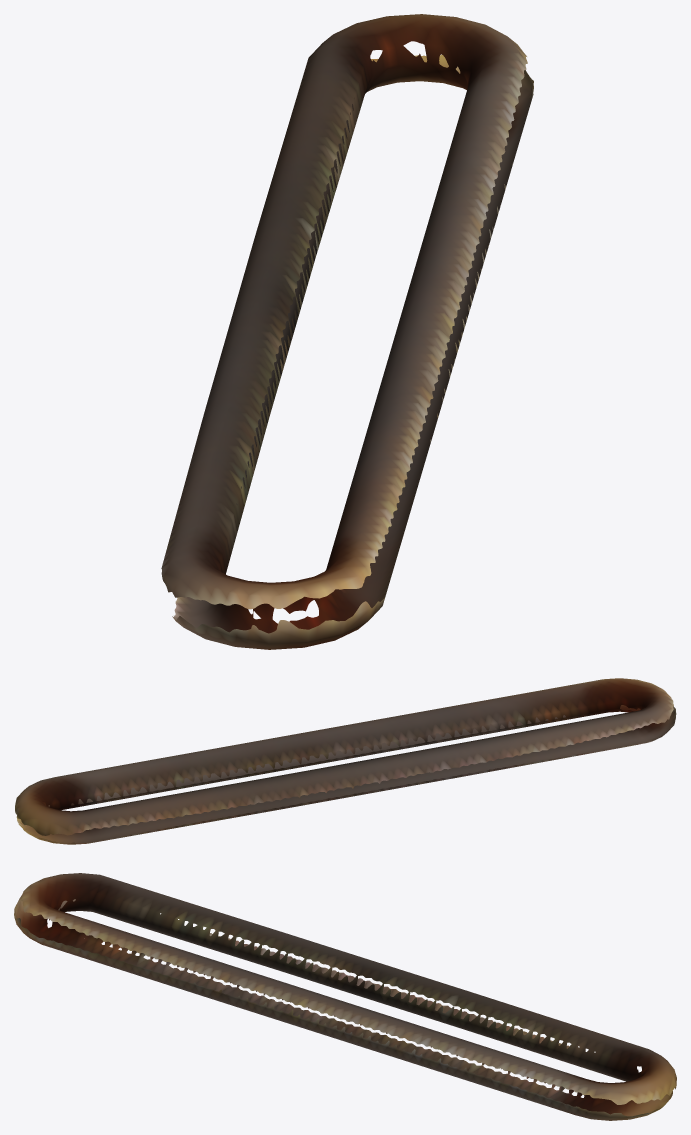
The model's file is lrubber2.fbx.
The picture shows the model from 3 angles, top to bottom: view 1: azimuth 30°, elevation 25°; view 2: azimuth 150°, elevation 25°; view 3: azimuth 270°, elevation 25°; orthographic projection. The views are drawn at different scales.
Visible parts, largest first — view 1: lrubber2; view 2: lrubber2; view 3: lrubber2.
Part boxes in pixels (bbox=[...]): lrubber2: bbox=[161, 14, 533, 649]; lrubber2: bbox=[15, 678, 676, 844]; lrubber2: bbox=[14, 873, 676, 1120].
Size of the model in its own units: 7.12 by 0.5054 by 8.82.
1 material, 1 textured.
